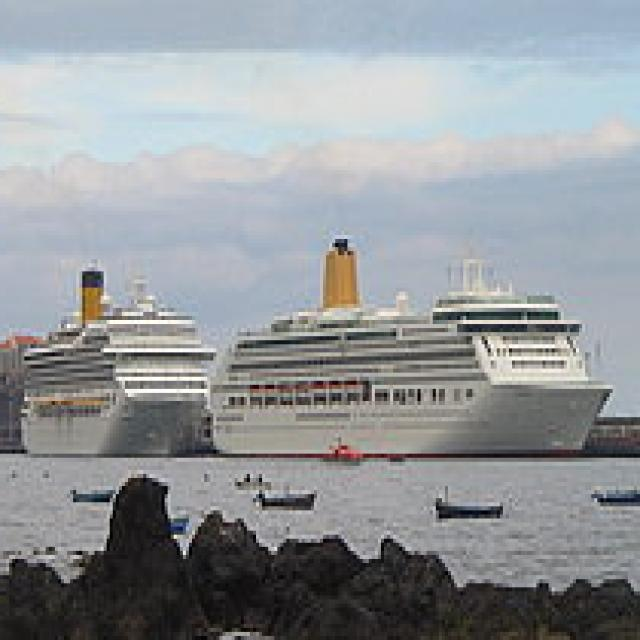Cruise: (210, 231, 619, 458), (21, 259, 222, 458)
